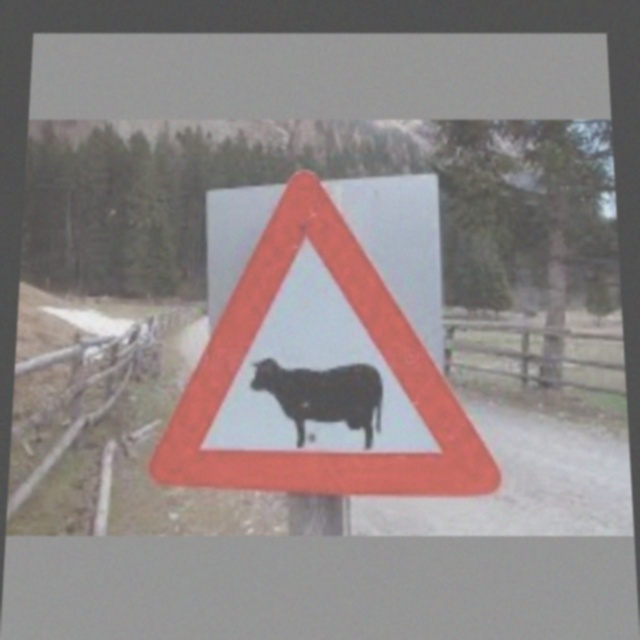Cattle: (153, 185, 489, 499)
